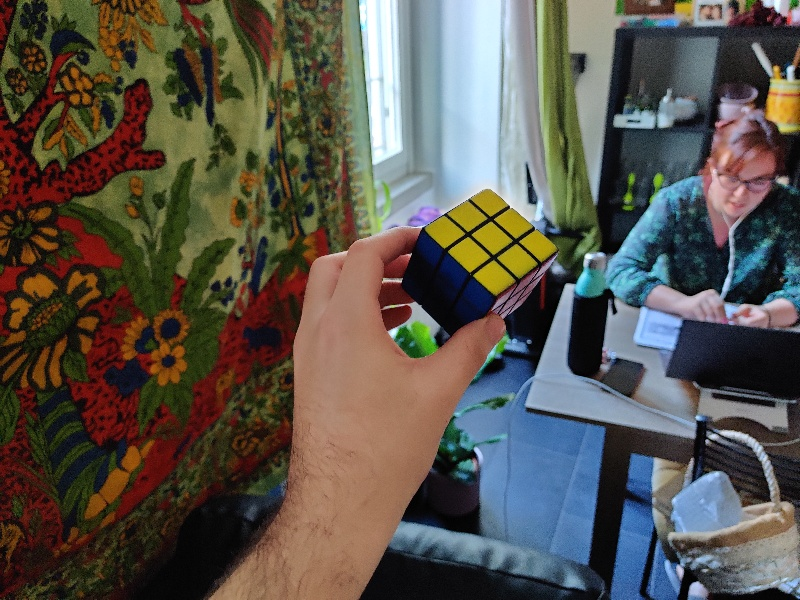rubik: (402, 189, 556, 340)
